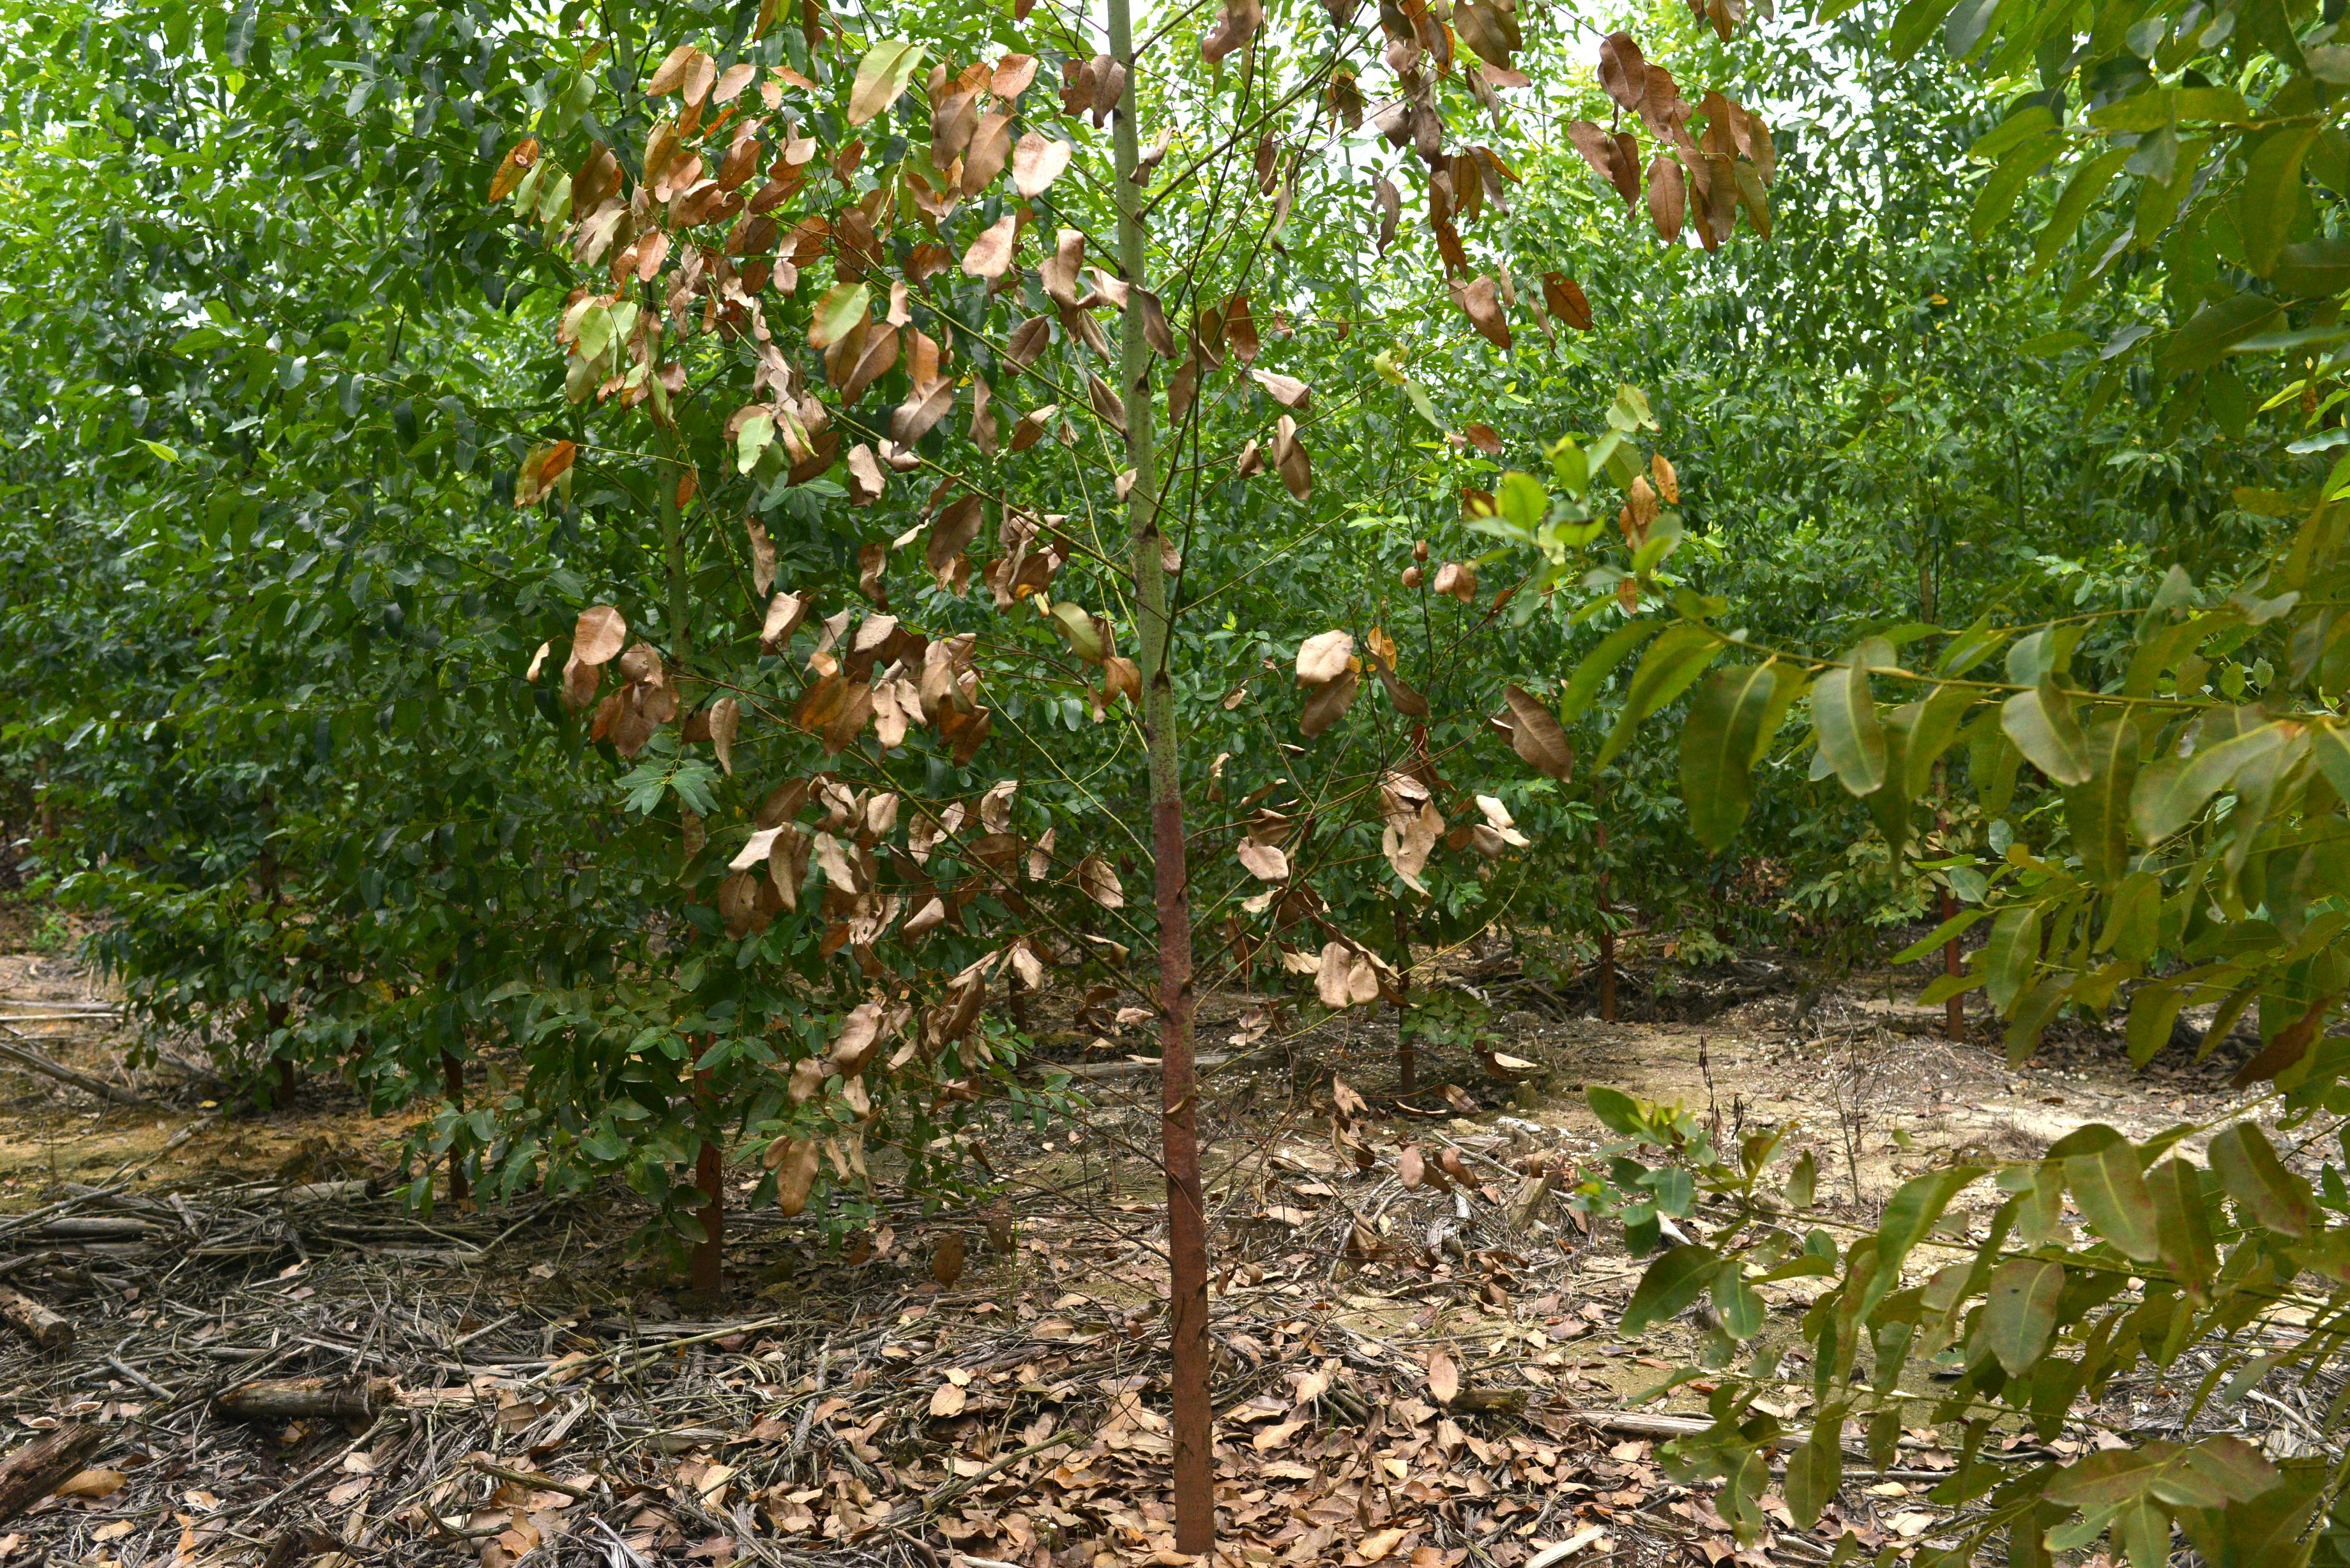Wither Tree Parts: (525, 0, 1783, 1568)
